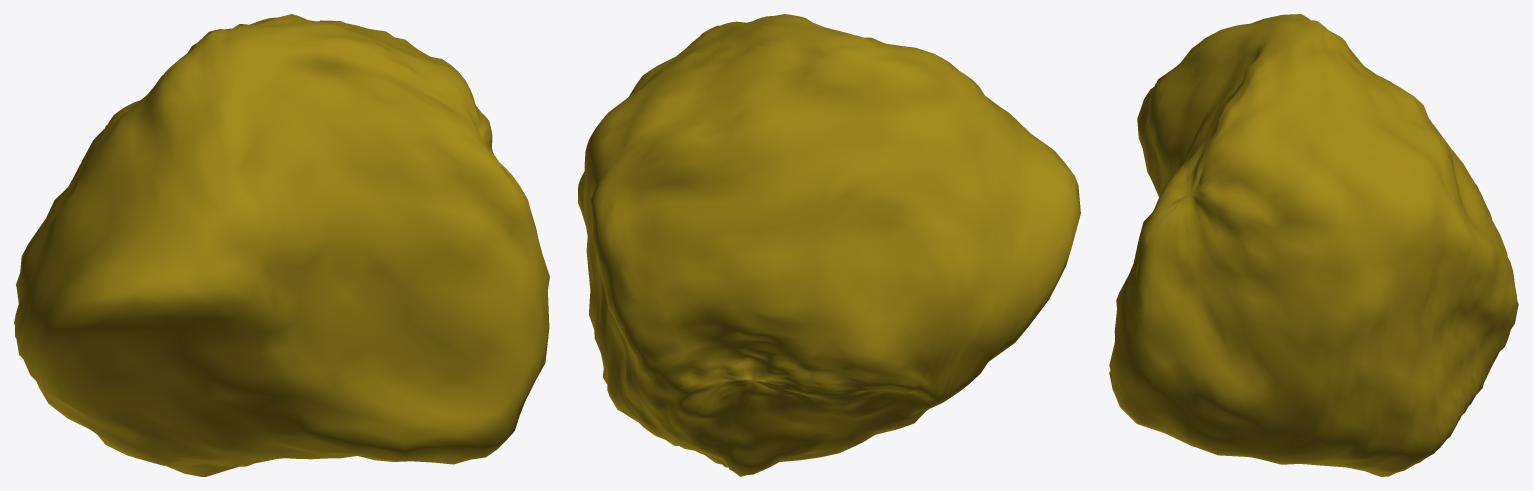
The model's file is asteroid3.fbx.
3 views of the same model, side by side, from view 1: azimuth 30°, elevation 25°; view 2: azimuth 150°, elevation 25°; view 3: azimuth 270°, elevation 25° (orthographic). The views are drawn at different scales.
Visible parts, largest first — view 1: Sphere; view 2: Sphere; view 3: Sphere.
Boxes of the visible parts, x1,y1,x2,y2 form: Sphere: (14,14,549,476); Sphere: (578,14,1080,476); Sphere: (1109,14,1518,476).
Bounding box in the file's own units: 7.17 × 6.54 × 6.01.
